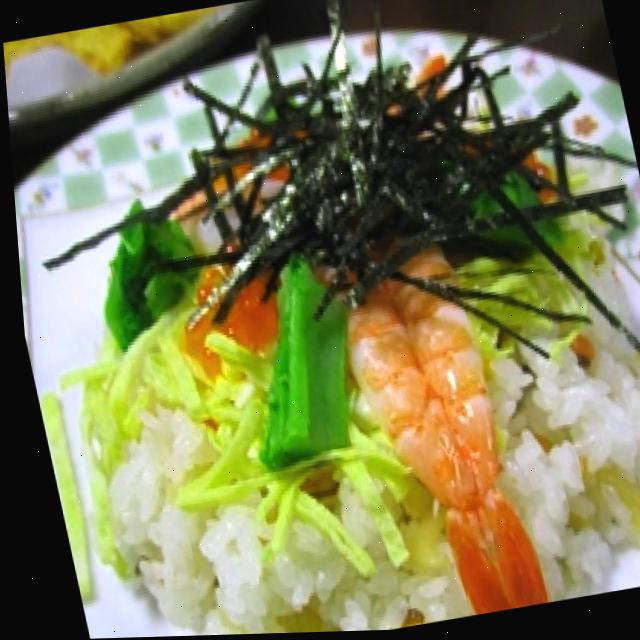寿司卷物: (3, 42, 640, 640)
